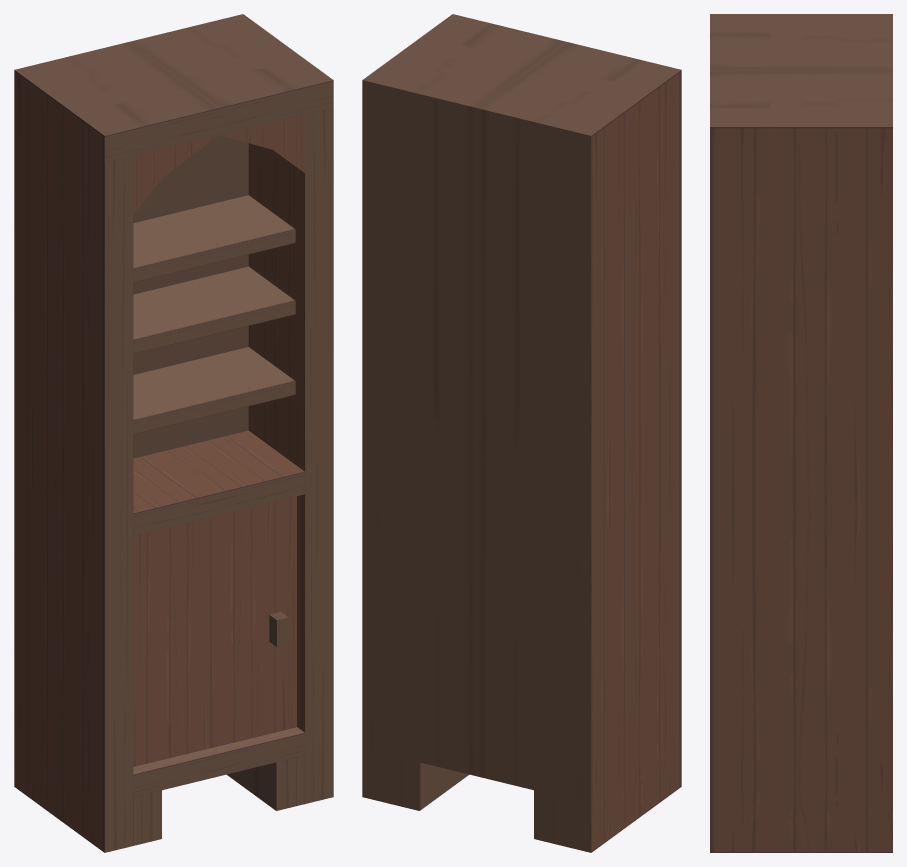
The model's file is Mesh_Room_Bookcase_02_SM.fbx.
3 views of the same model, side by side, from view 1: azimuth 30°, elevation 25°; view 2: azimuth 150°, elevation 25°; view 3: azimuth 270°, elevation 25° (orthographic).
Visible parts, largest first — view 1: Mesh_Room_Bookcase_02; view 2: Mesh_Room_Bookcase_02; view 3: Mesh_Room_Bookcase_02.
Part boxes in pixels (bbox=[...]): Mesh_Room_Bookcase_02: bbox=[14, 14, 333, 852]; Mesh_Room_Bookcase_02: bbox=[362, 14, 681, 852]; Mesh_Room_Bookcase_02: bbox=[710, 14, 892, 852].
Bounding box in the file's own units: 84.53 × 253 × 57.79.
